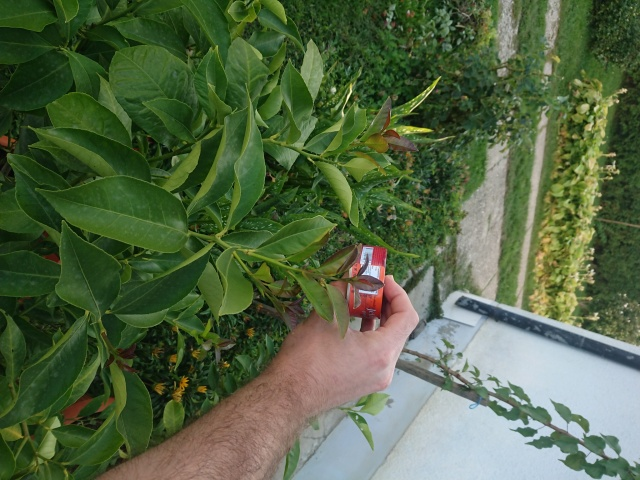Gavrilovic Pork Liver Pate 100g: (344, 242, 388, 320)
